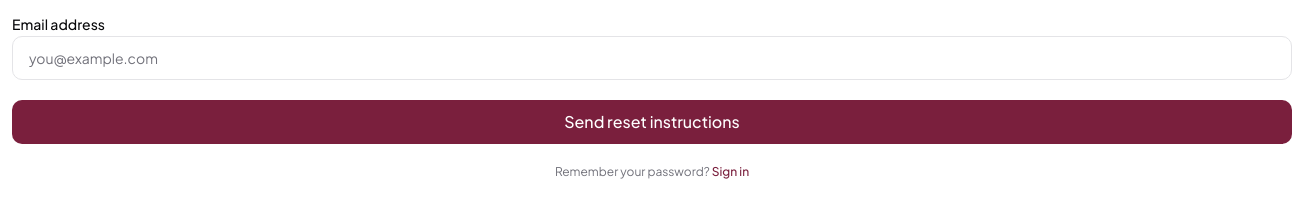
ForgotPasswordForm (F9.1) › shows validation error when submitting an empty form
Click the button "Send reset instructions".
click(652, 122)  # box top-left (12, 100), bottom-right (1292, 144)
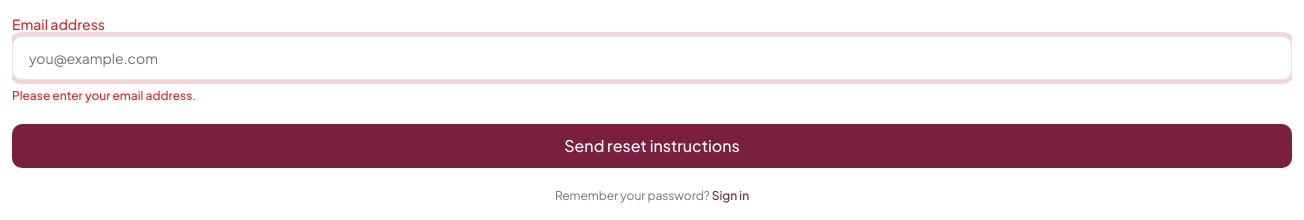
Expected: the text "Please enter your email address." is shown, top-left (12, 88), bottom-right (196, 103)
